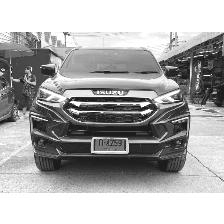NON-EV: (30, 47, 192, 173)
